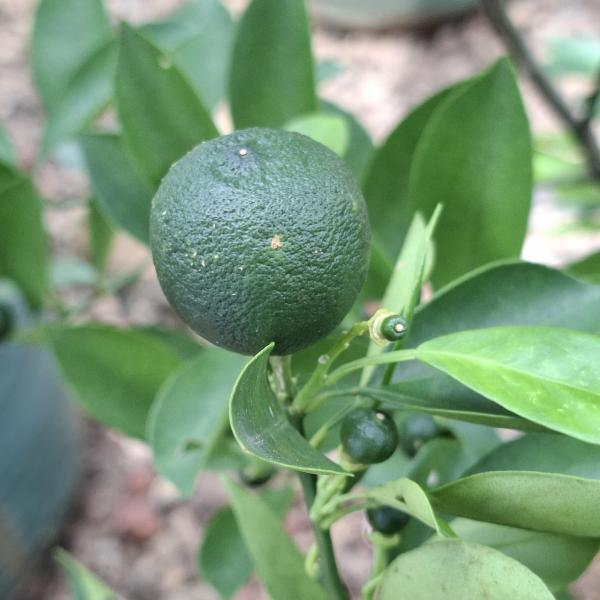Scab: (138, 120, 382, 356)
